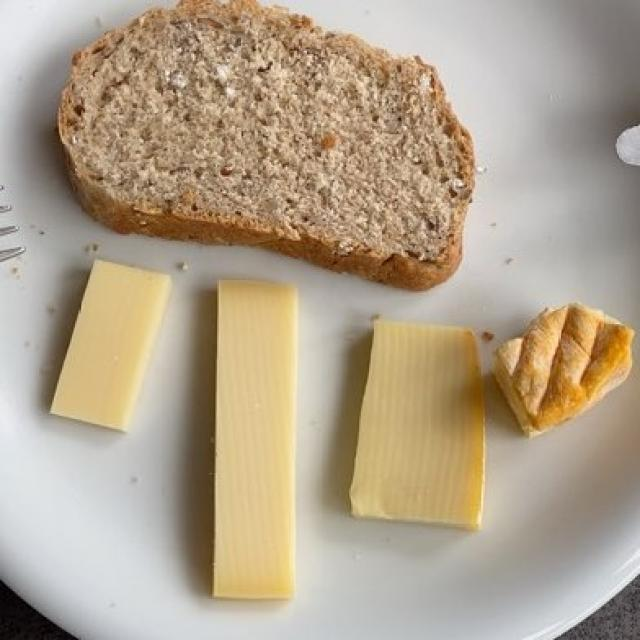bread: (61, 16, 461, 287)
cheese: (50, 256, 482, 595), (505, 307, 631, 433)
